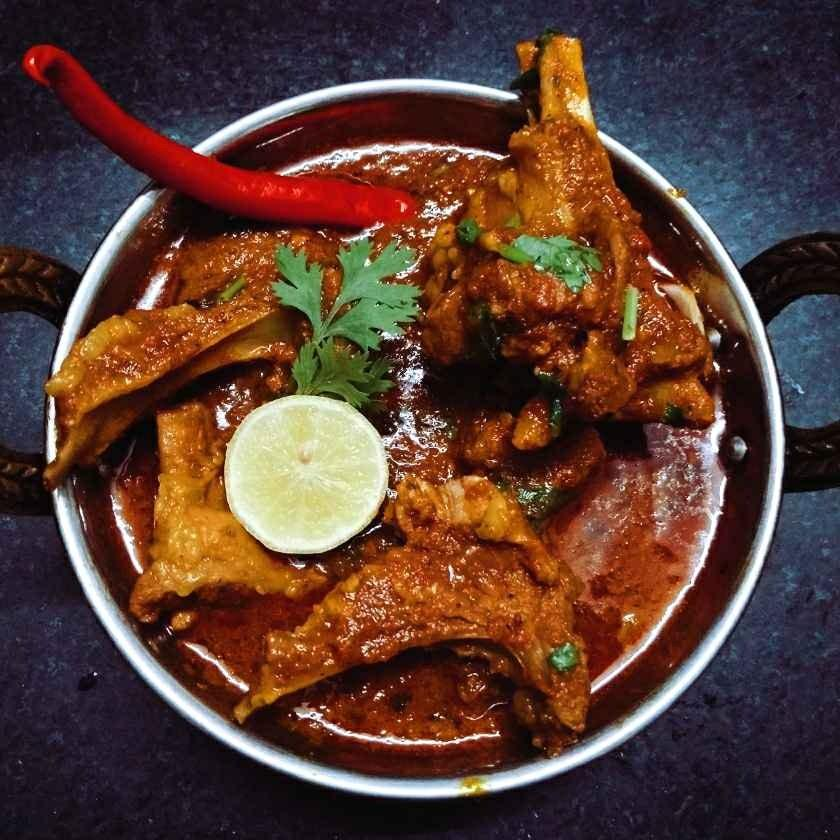MuttonCurry: (51, 31, 722, 742)
